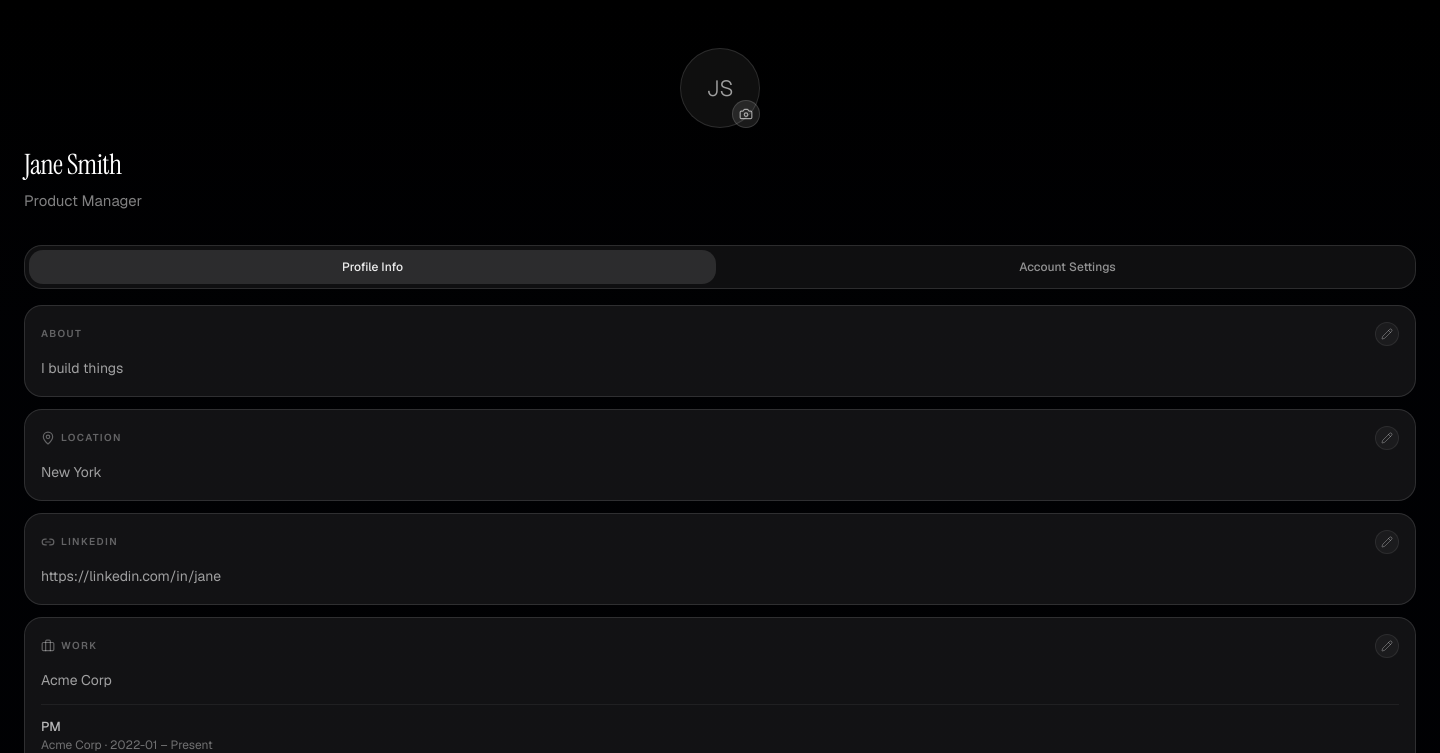
Scenario: ProfilePage › cancels sign out confirmation
Click the button "Account Settings". click: (1068, 266)
box: [724,250,1411,284]
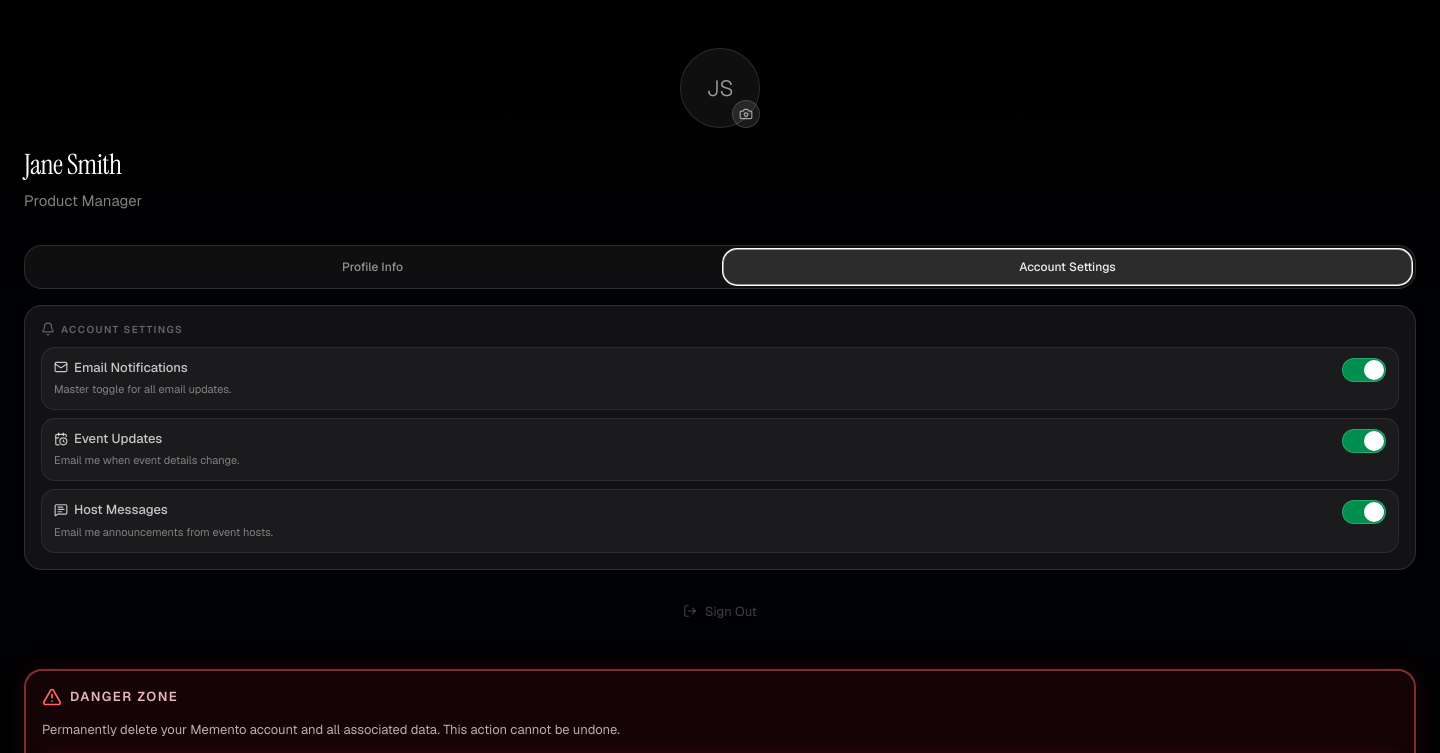
Click the button "Sign Out". click: (720, 611)
box: [24,594,1416,629]
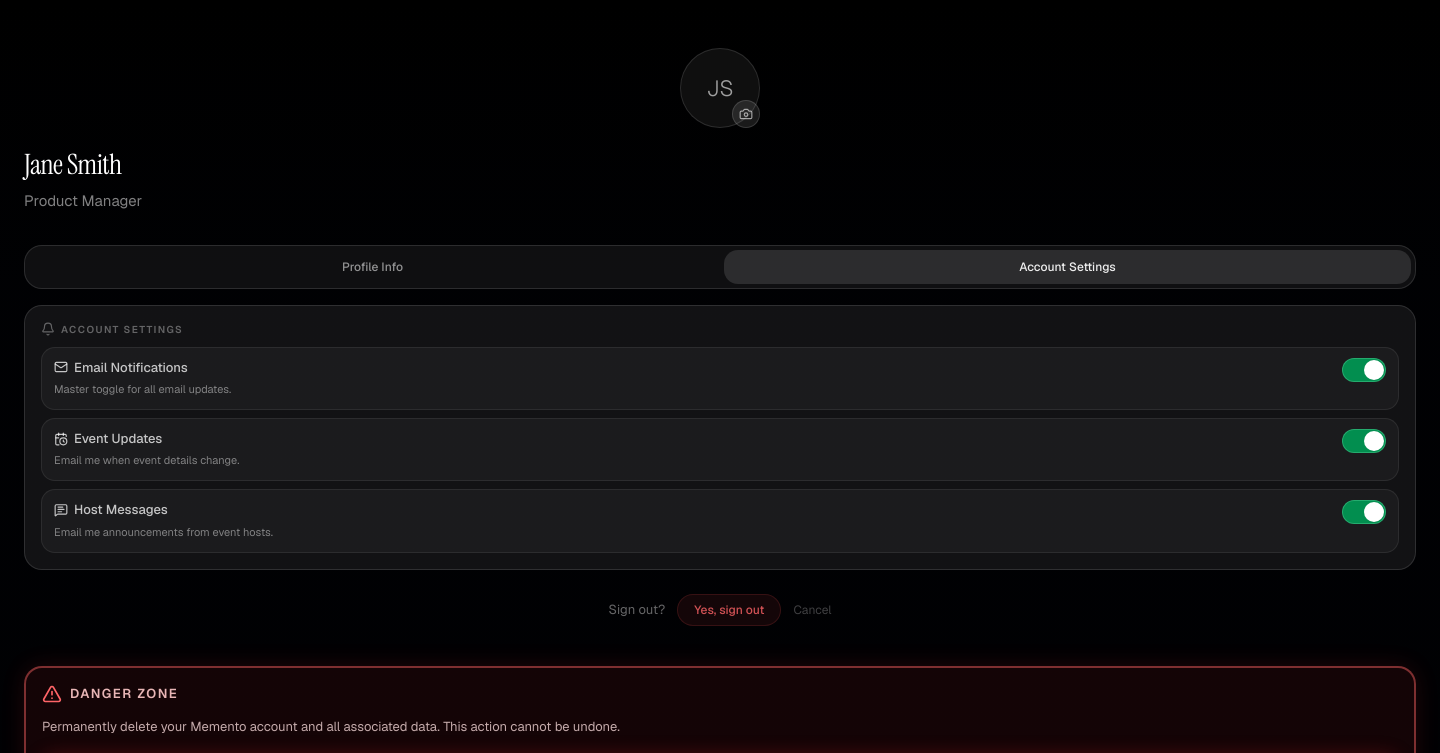
Click the button "Cancel". click: (813, 610)
box: [794,601,832,619]
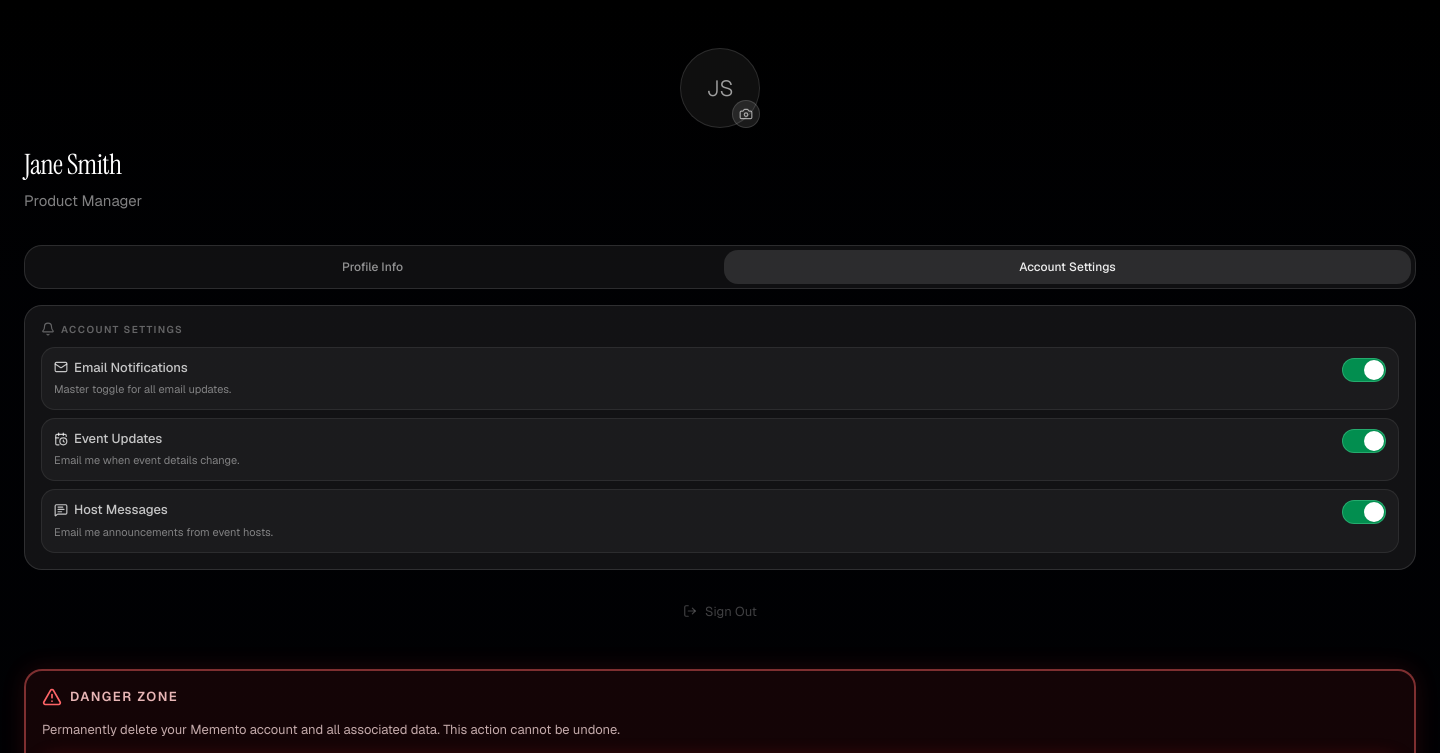
expect the button "Sign Out" is shown: met, box [24,594,1416,629]
expect the button "Yes, sign out" is gone: met
